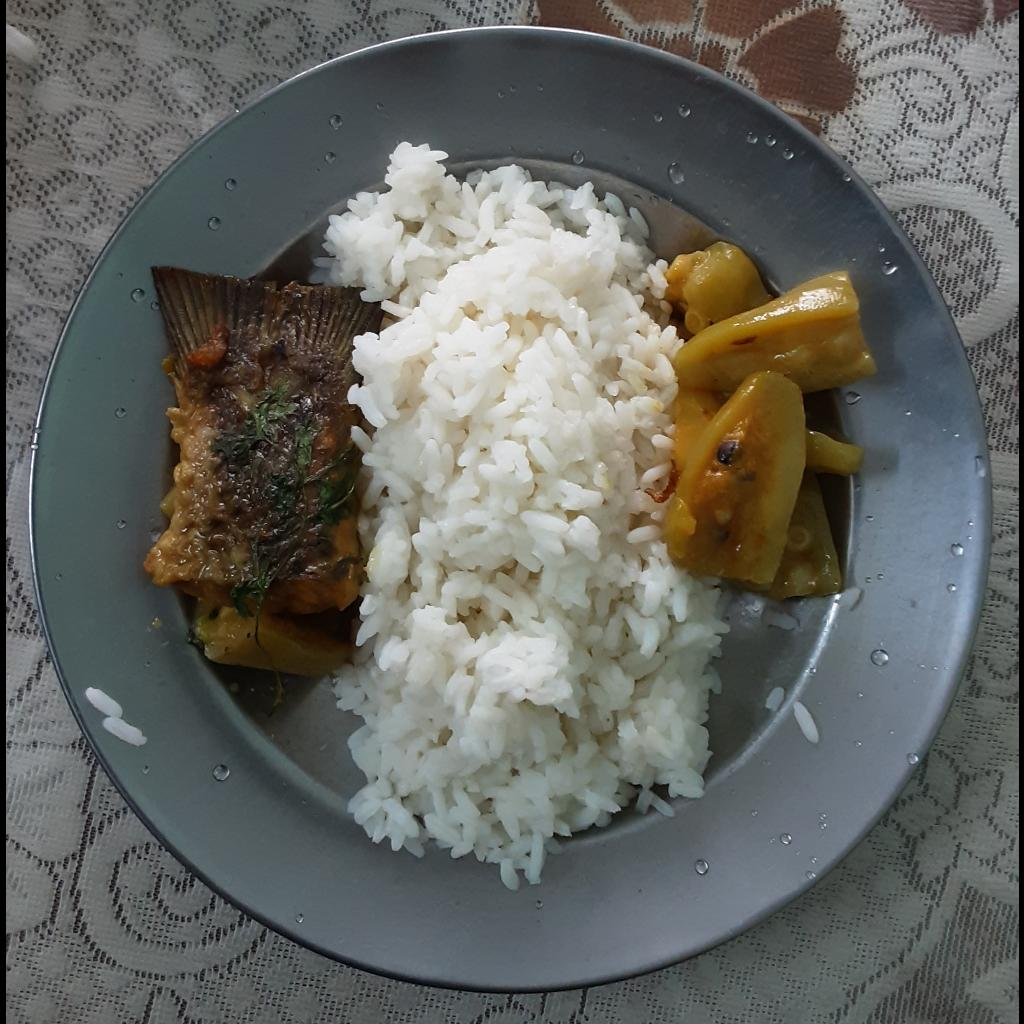begun-vaji: (188, 595, 359, 683)
fish: (138, 262, 386, 619)
potol: (659, 241, 880, 597)
rice: (308, 138, 737, 889)
